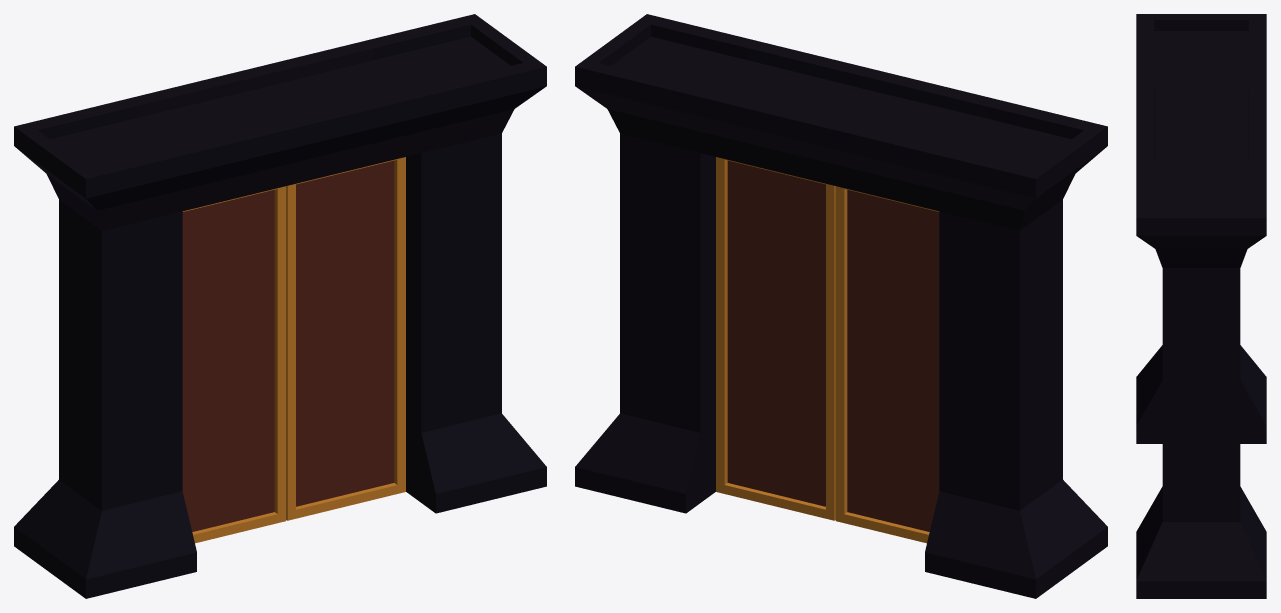
File: VaultClosed.fbx
3 views of the same model, side by side, from view 1: azimuth 30°, elevation 25°; view 2: azimuth 150°, elevation 25°; view 3: azimuth 270°, elevation 25° (orthographic). The views are drawn at different scales.
Parts seen in each view (by area): view 1: Cube.001, Cube; view 2: Cube.001, Cube; view 3: Cube.001.
Boxes of the visible parts, left/top/right/bottom form: Cube.001: left=14, top=14, right=546, bottom=598; Cube: left=182, top=157, right=405, bottom=543; Cube.001: left=575, top=14, right=1107, bottom=598; Cube: left=716, top=157, right=939, bottom=543; Cube.001: left=1136, top=14, right=1266, bottom=598.
Size of the model in its own units: 2298 by 2000 by 622.
